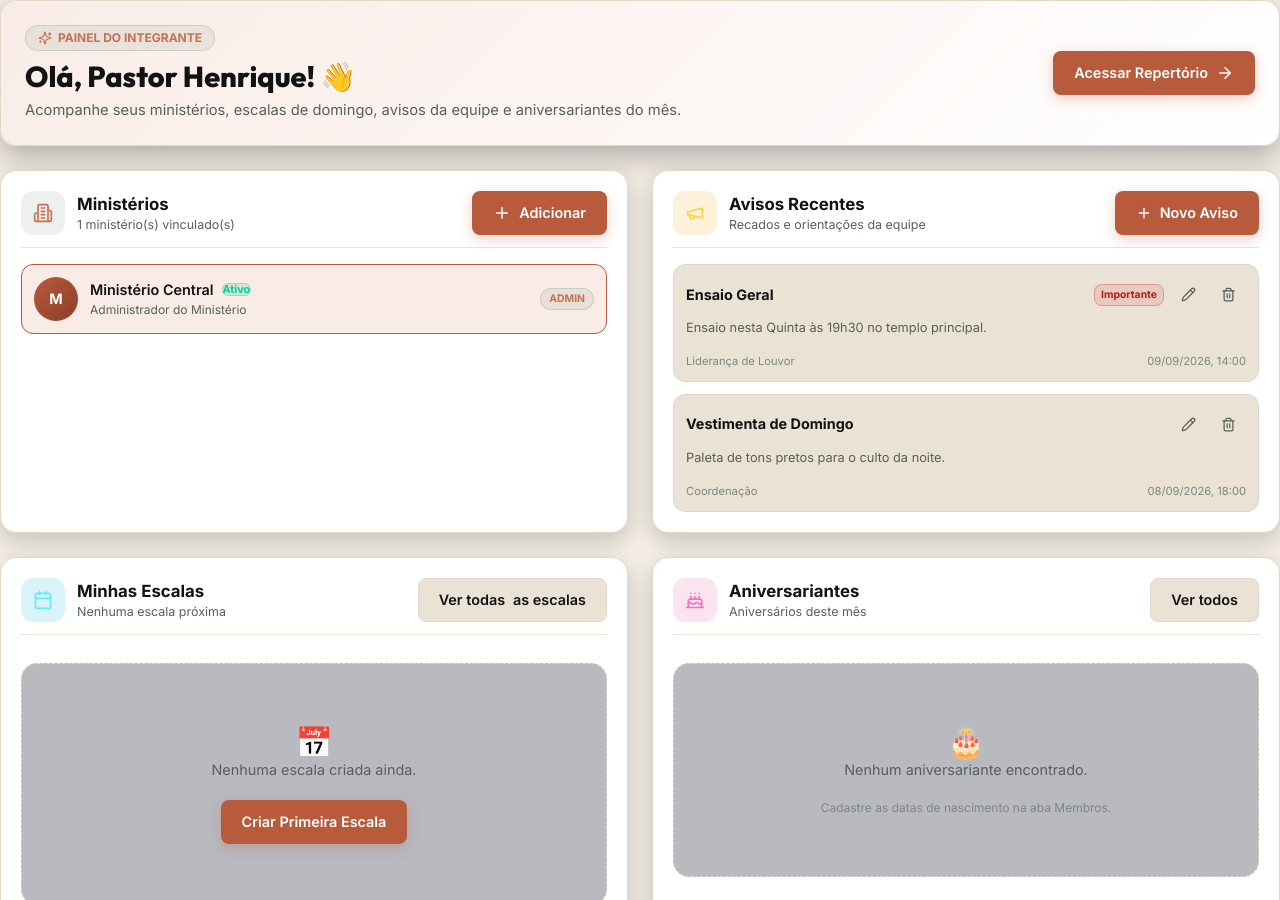
Test case: DashboardView - Persisted Announcements › 7. Administrador pode editar aviso existente via modal
Check: the text "Ensaio Geral" is shown, box 686,286 -> 774,303
Click the button named "Editar aviso Ensaio Geral" at {"x": 1188, "y": 295}, box 1170,277 -> 1206,313
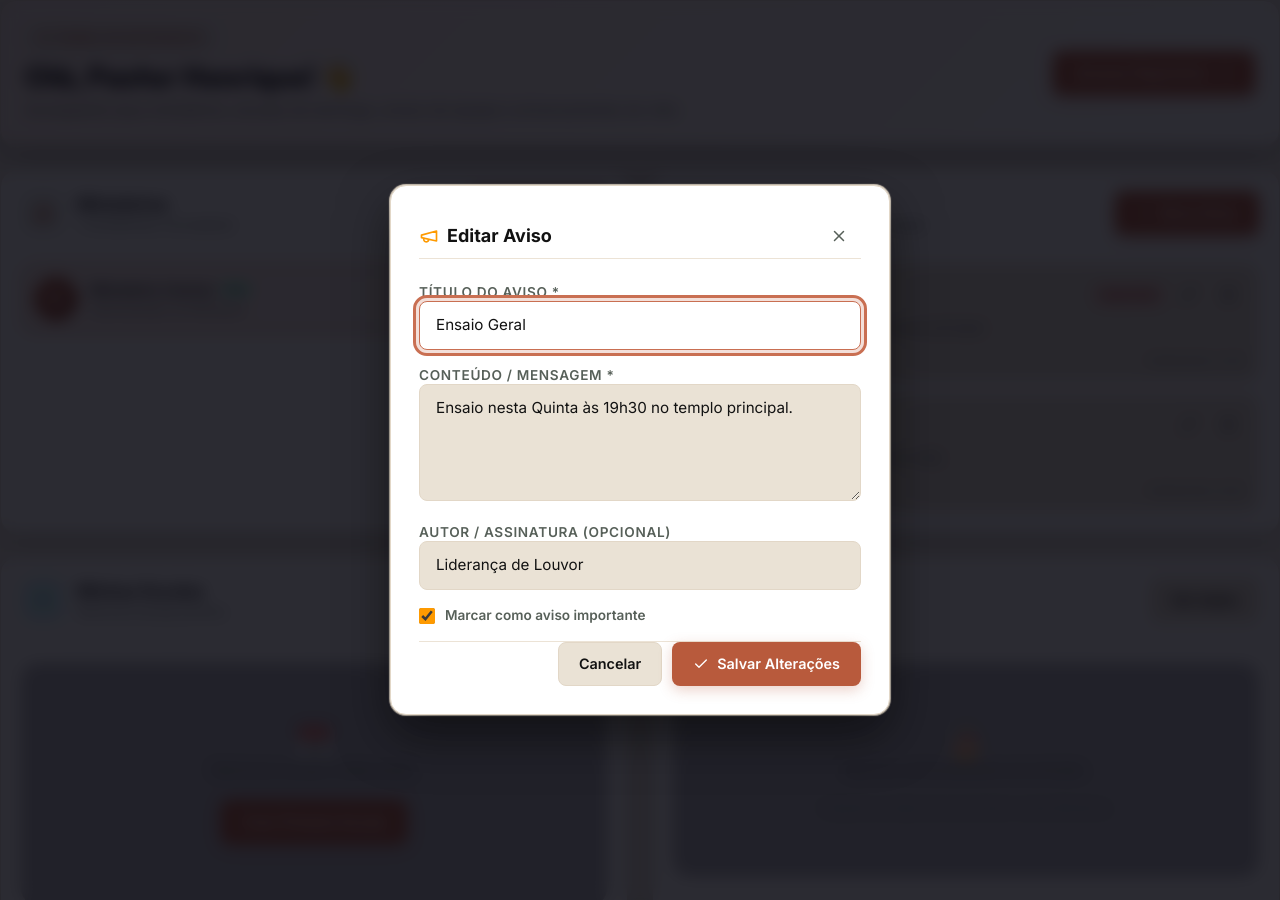
Check: the heading "Editar Aviso" is shown, box 447,222 -> 552,250
Replace the text in the field showing "Ensaio Geral" below "Título do Aviso *" with "Ensaio Geral Alterado" at {"x": 640, "y": 325}, box 419,301 -> 861,350
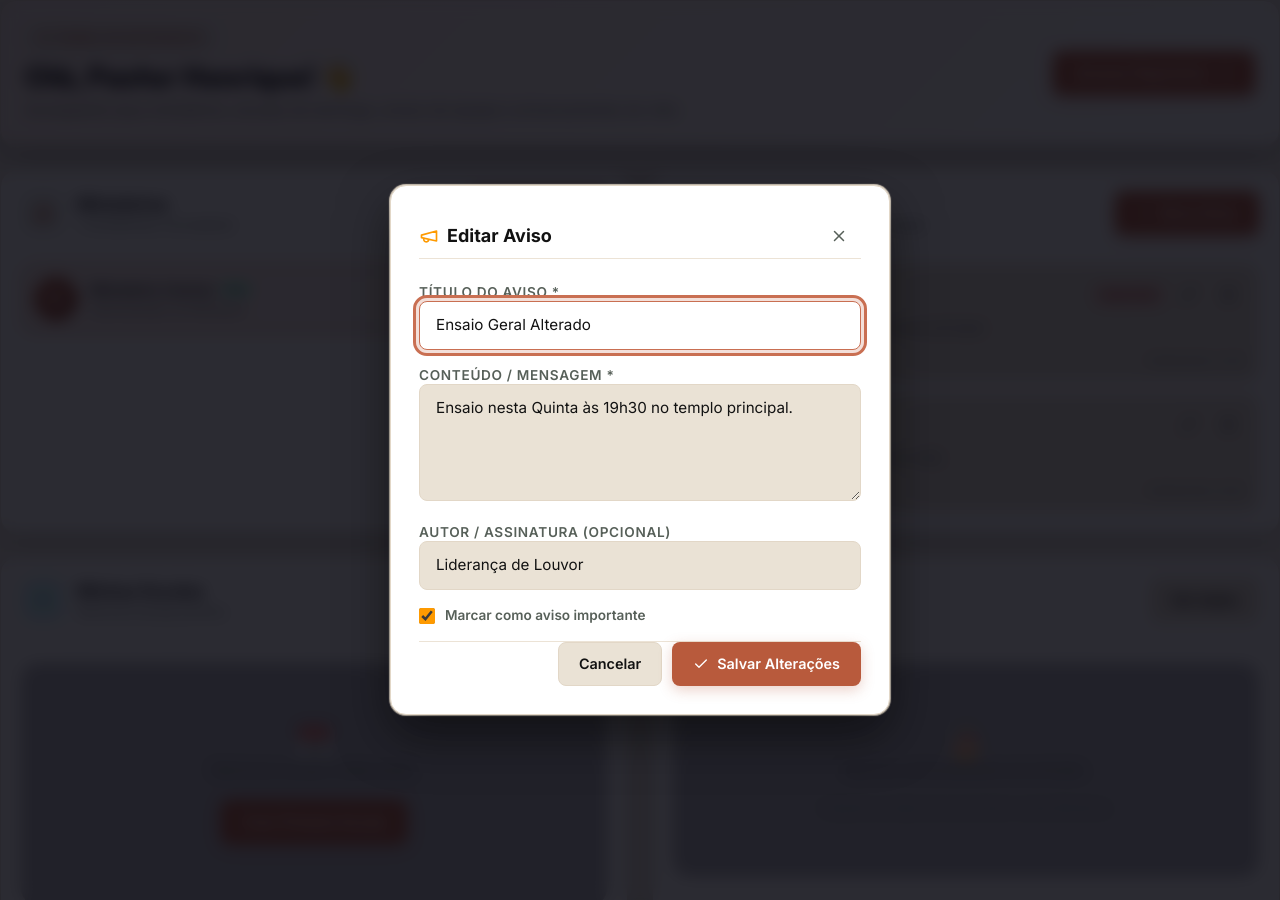
Click the button "Salvar Alterações" at {"x": 767, "y": 664}, box 672,642 -> 861,686
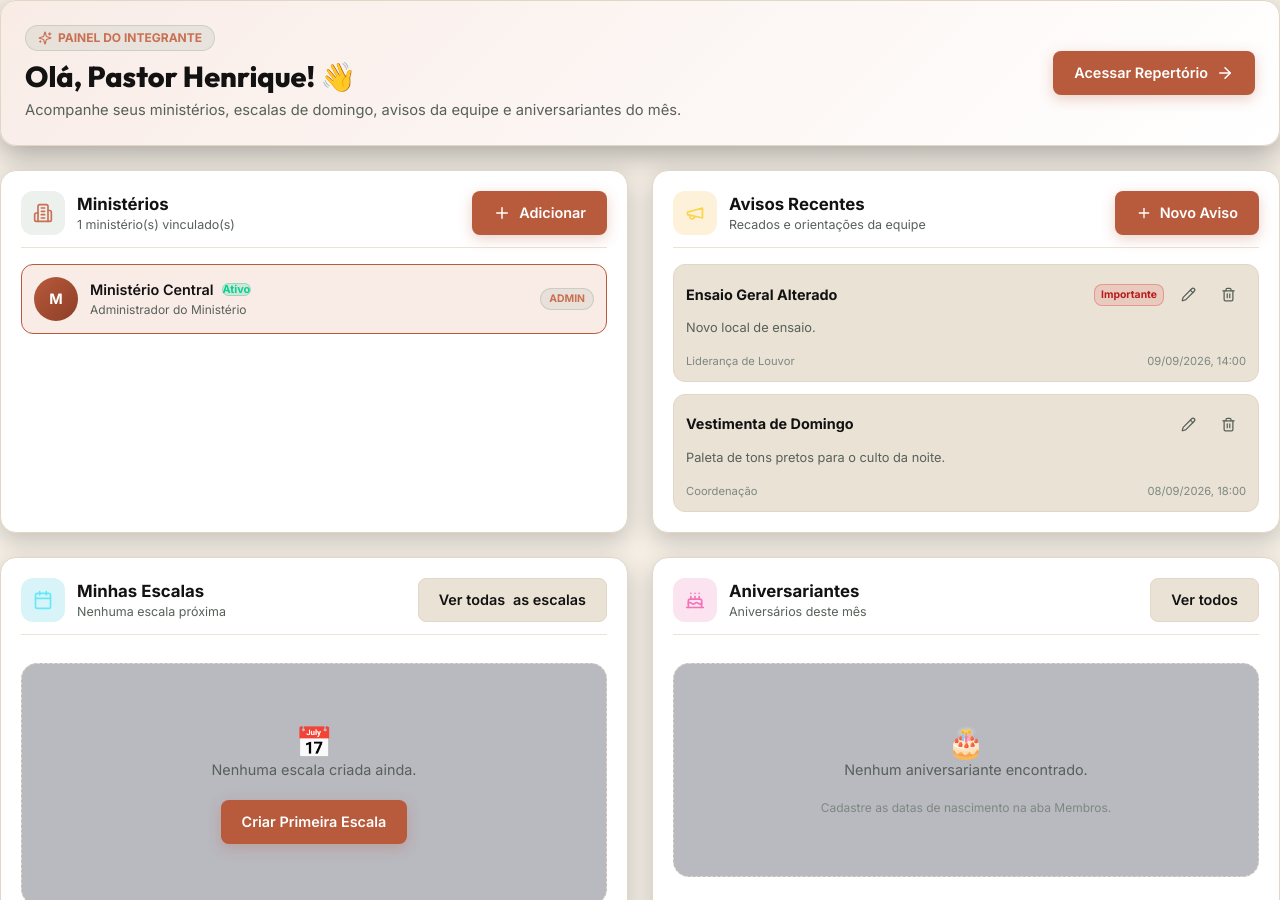
Check: the text "Ensaio Geral Alterado" is shown, box 686,286 -> 837,303
